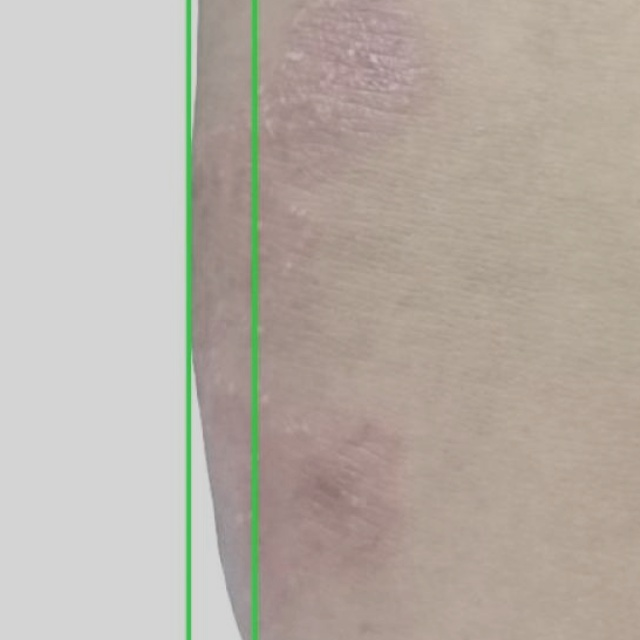Eczema: (190, 0, 639, 639), (0, 0, 254, 639)
